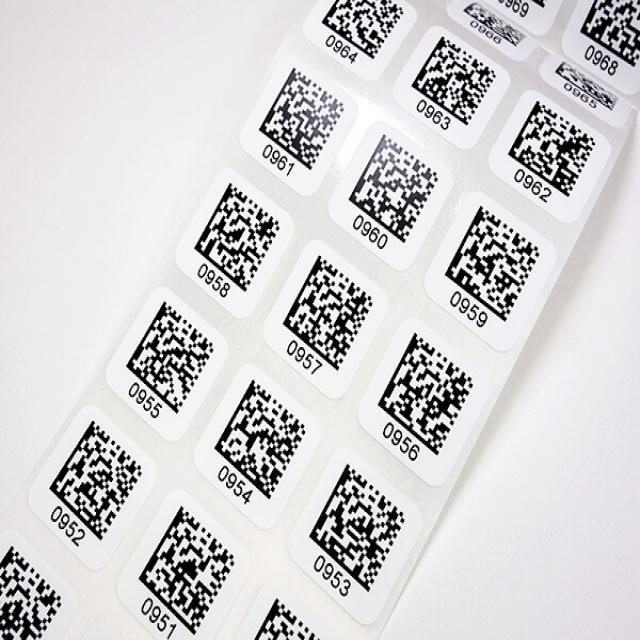datamatrix: (136, 503, 239, 640), (372, 329, 475, 465), (276, 242, 379, 378), (116, 296, 219, 432), (305, 461, 408, 597), (208, 375, 310, 512), (42, 410, 144, 546), (438, 205, 544, 328), (256, 60, 348, 175), (347, 132, 438, 248), (192, 180, 284, 294), (504, 91, 595, 206), (408, 26, 499, 140)
